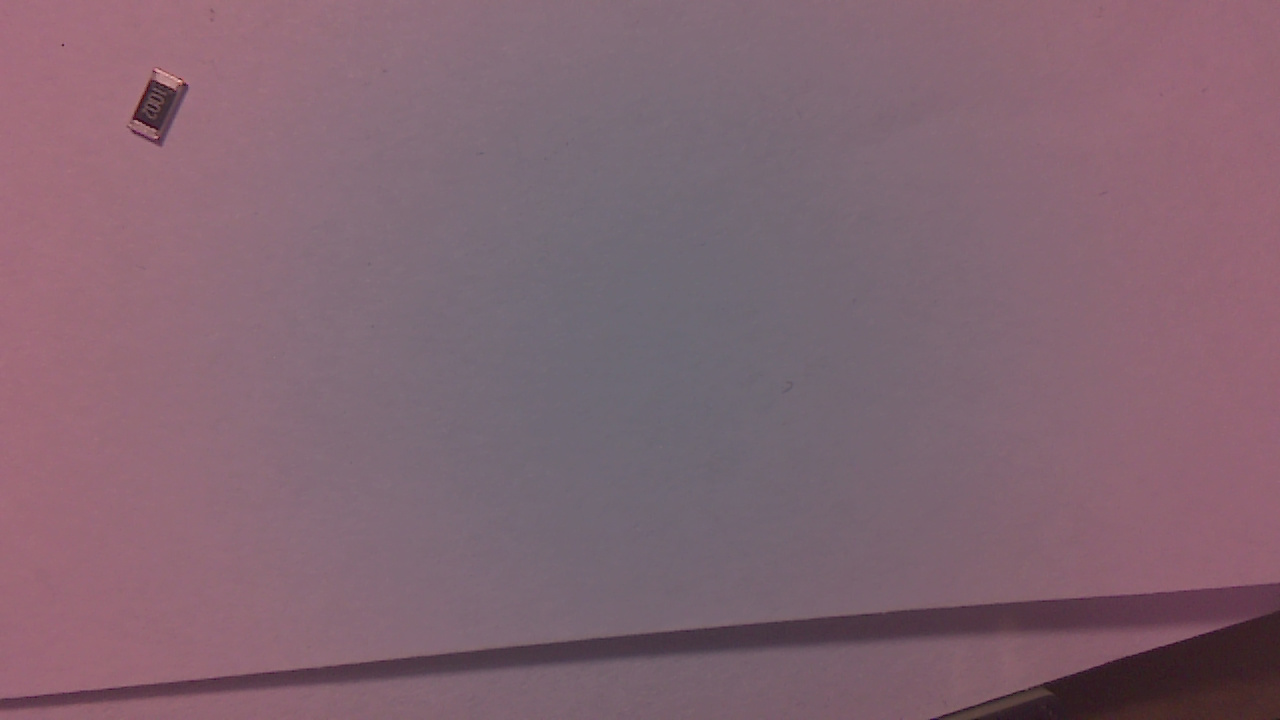Resistor: (134, 75, 197, 151)
